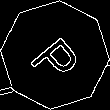P_NE: (23, 24, 87, 86)
